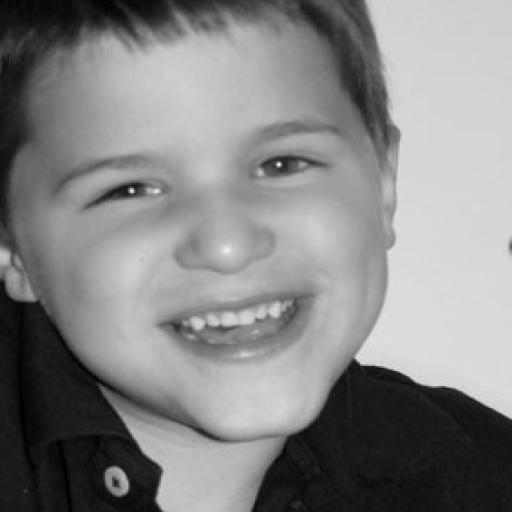Autism: (7, 8, 494, 450)
